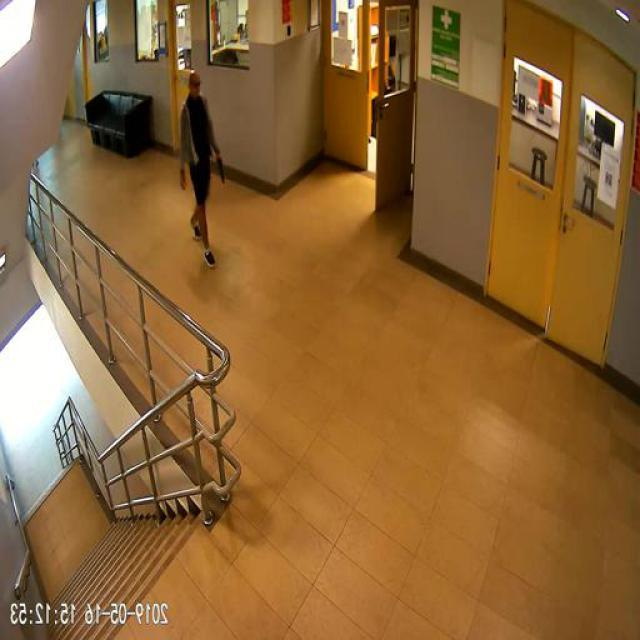Gun: (218, 154, 226, 182)
